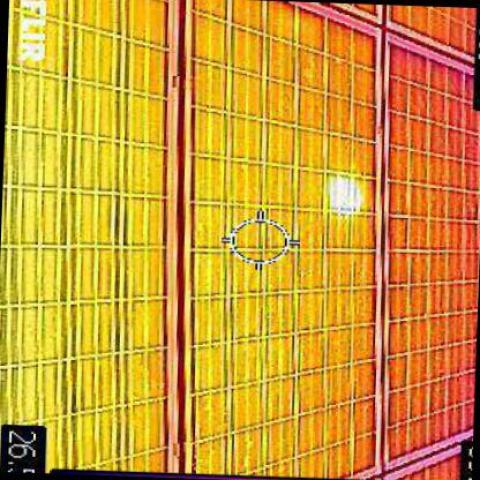fault: (332, 174, 370, 210)
